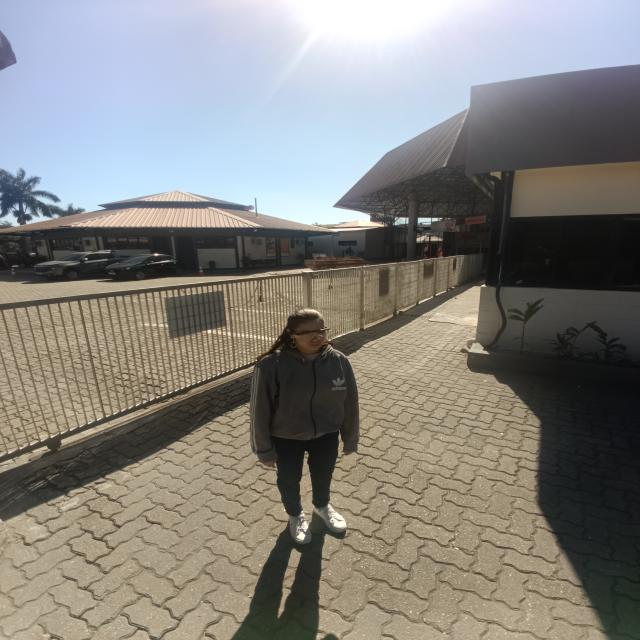oculos-epi: (291, 327, 330, 341)
